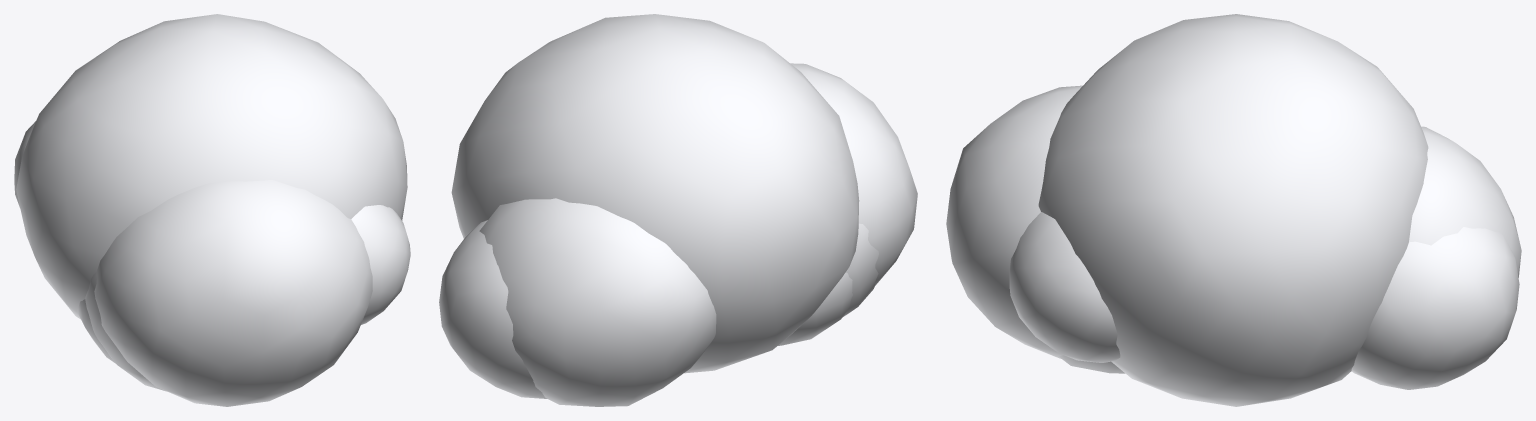
File: Cloud1.obj
3 views of the same model, side by side, from view 1: azimuth 30°, elevation 25°; view 2: azimuth 150°, elevation 25°; view 3: azimuth 270°, elevation 25° (orthographic). The views are drawn at different scales.
Parts seen in each view (by area): view 1: Cloud1; view 2: Cloud1; view 3: Cloud1.
Part boxes in pixels (x1,y1,x2,y2): Cloud1: (14, 14, 410, 406); Cloud1: (439, 14, 917, 406); Cloud1: (946, 14, 1521, 406).
Size of the model in its own units: 1.34 by 1.07 by 1.73.
1 material, 1 textured.
